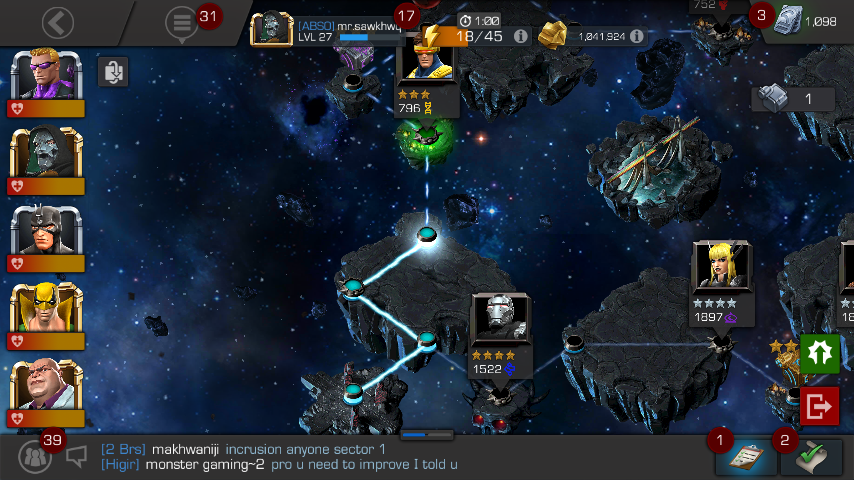green: (415, 126, 440, 145)
